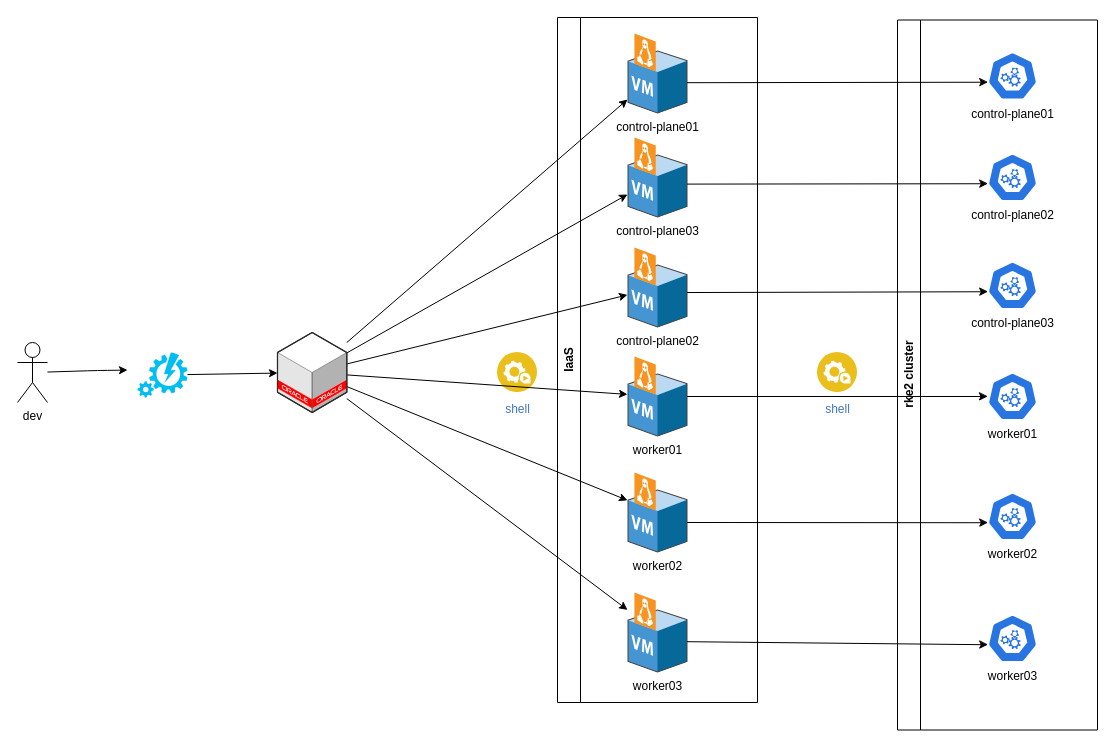
This 1115x748 diagram has some shape labels left out. The shapes that lost their labels are listed below. From the top down, each one's box as (x1, y1, x2, y2) in pixels, then its label:
(137, 352, 187, 397): vagrant
(276, 332, 347, 412): Virtualbox
